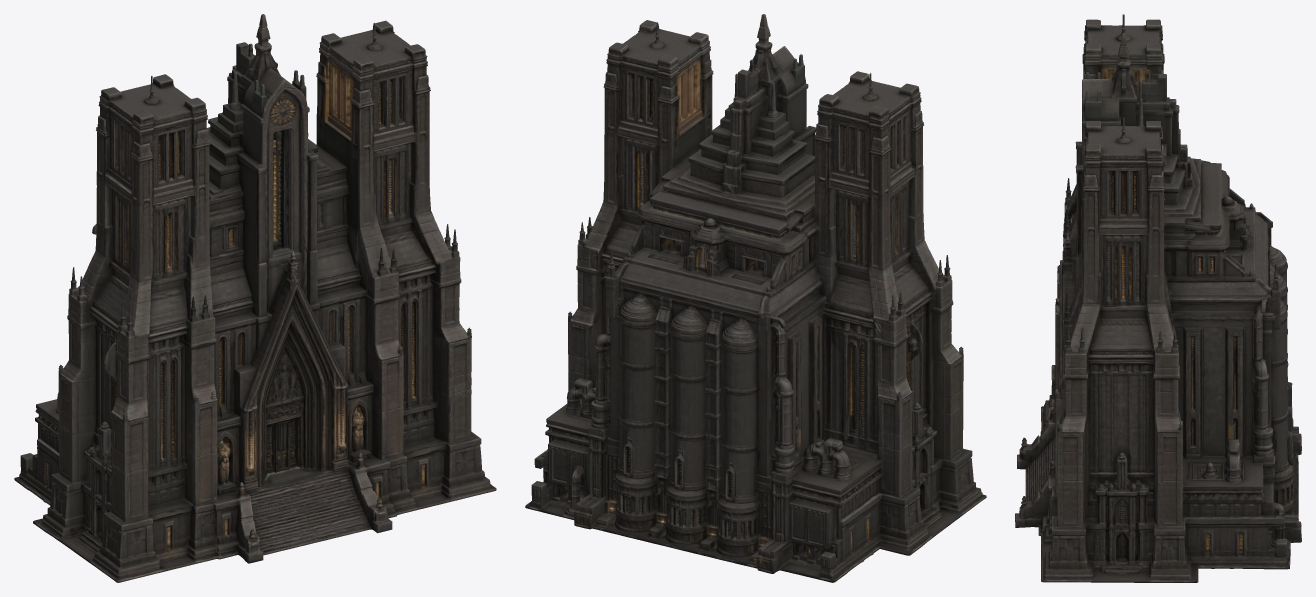
Rendered from gothic_cathedral4.glb.
3 renders of one model, left to right at view 1: azimuth 30°, elevation 25°; view 2: azimuth 150°, elevation 25°; view 3: azimuth 270°, elevation 25°, orthographic. The views are drawn at different scales.
Size of the model in its own units: 0.8009 by 0.9789 by 0.5511.
Materials: 1 (1 with a texture image).
